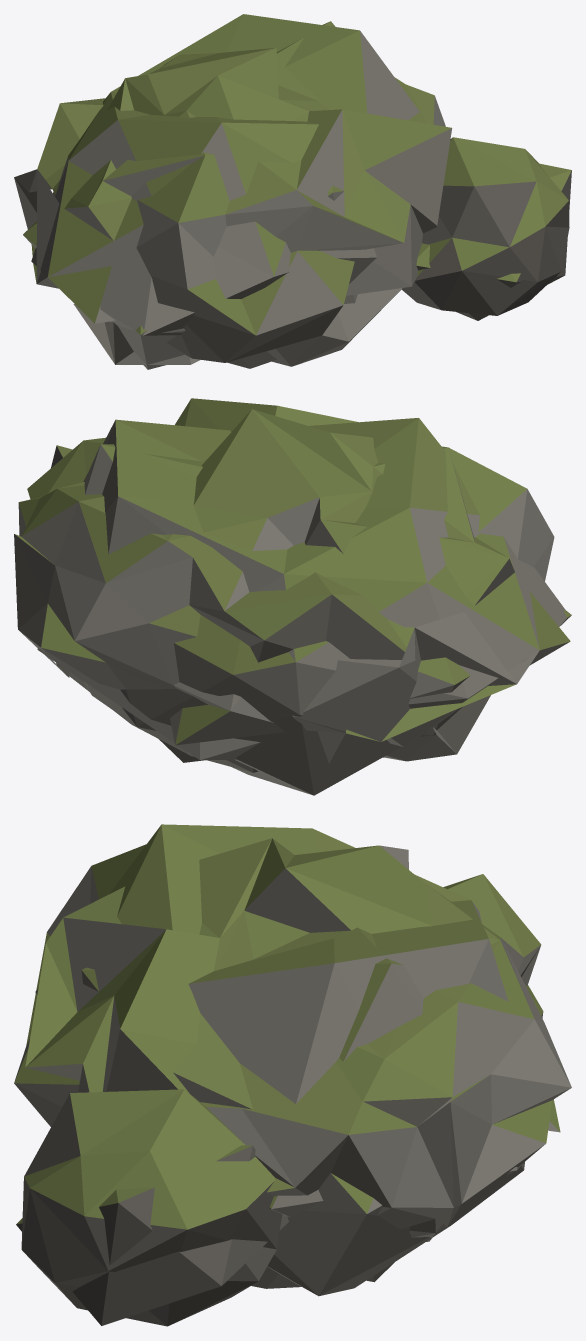
Rendered from neutral_rock_small.glb.
The picture shows the model from 3 angles, top to bottom: view 1: azimuth 30°, elevation 25°; view 2: azimuth 150°, elevation 25°; view 3: azimuth 270°, elevation 25°; orthographic projection. The views are drawn at different scales.
Visible parts, largest first — view 1: rock (×3); view 2: rock (×3); view 3: rock (×3).
Part boxes in pixels (box(x1,y1,x2,y2)): rock (×3): box(14, 14, 571, 369); rock (×3): box(14, 398, 571, 795); rock (×3): box(14, 824, 571, 1326).
Bounding box in the file's own units: 2.09 × 1.24 × 1.58.
